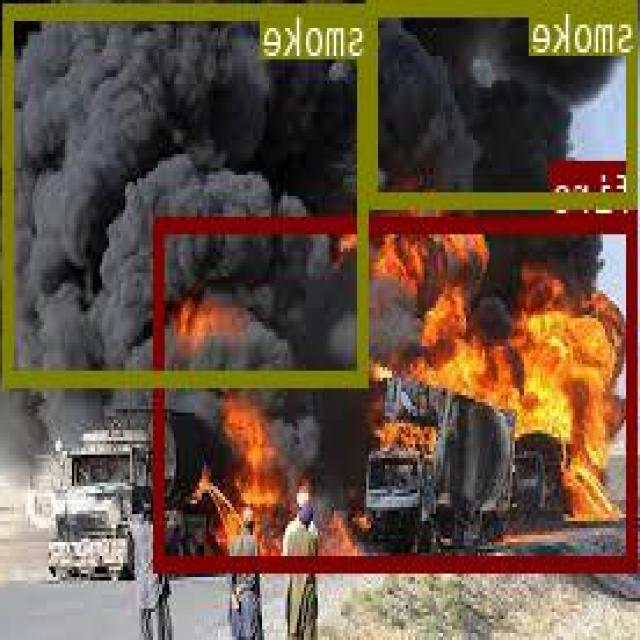fire: (157, 215, 640, 568)
smoke: (6, 1, 370, 384), (370, 0, 639, 206)
